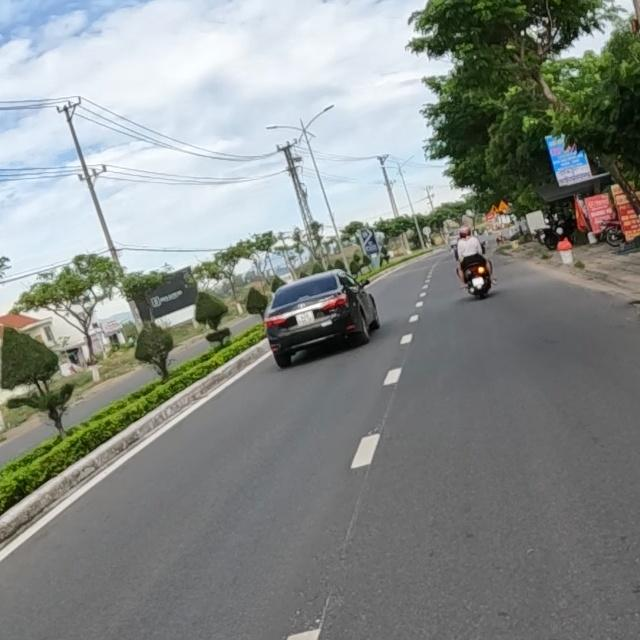license-plate: (294, 309, 315, 327)
